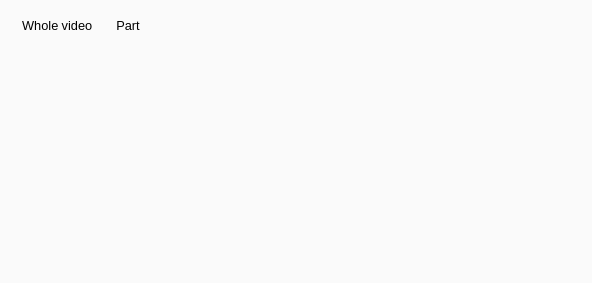
Test: Part of video on the Format screen › starts on the whole video and opens the range on Part
Click the button with test id "video-part-part": (128,26) left=106, top=12, right=150, bottom=40
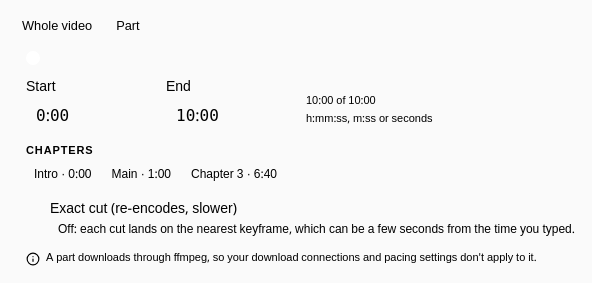
Now the field with test id "video-part-start" holds "0:00", box left=26, top=99, right=154, bottom=131
Now the field with test id "video-part-end" holds "10:00", box left=166, top=99, right=294, bottom=131
Now the element with test id "video-part-connections-note" is shown, box left=26, top=249, right=537, bottom=266
